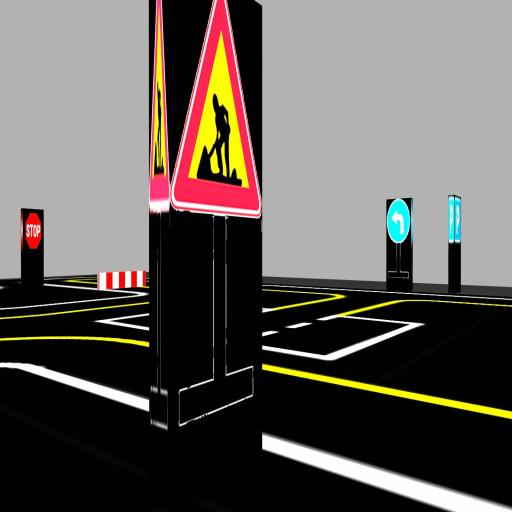Construction: (169, 0, 261, 217), (149, 0, 170, 212)
